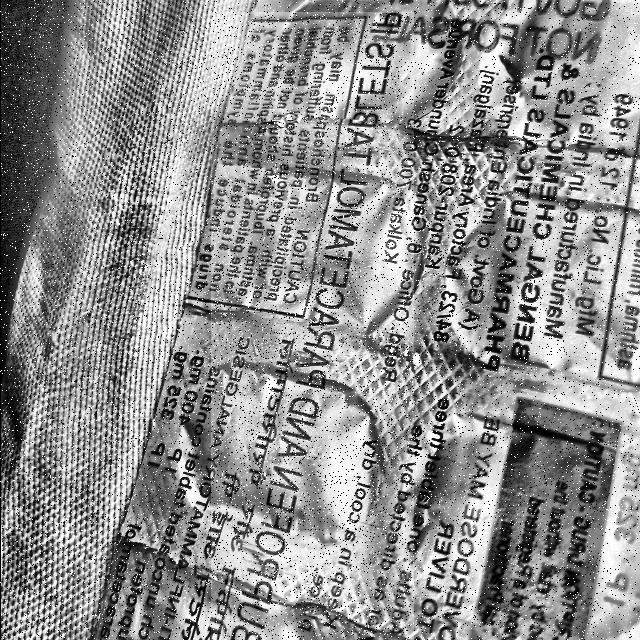IBUPROFEN AND PARACETAMOL TABLETS: (210, 12, 413, 640)
